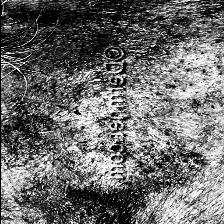Potentially Malignant Skin Tumors: (74, 192, 148, 224)
